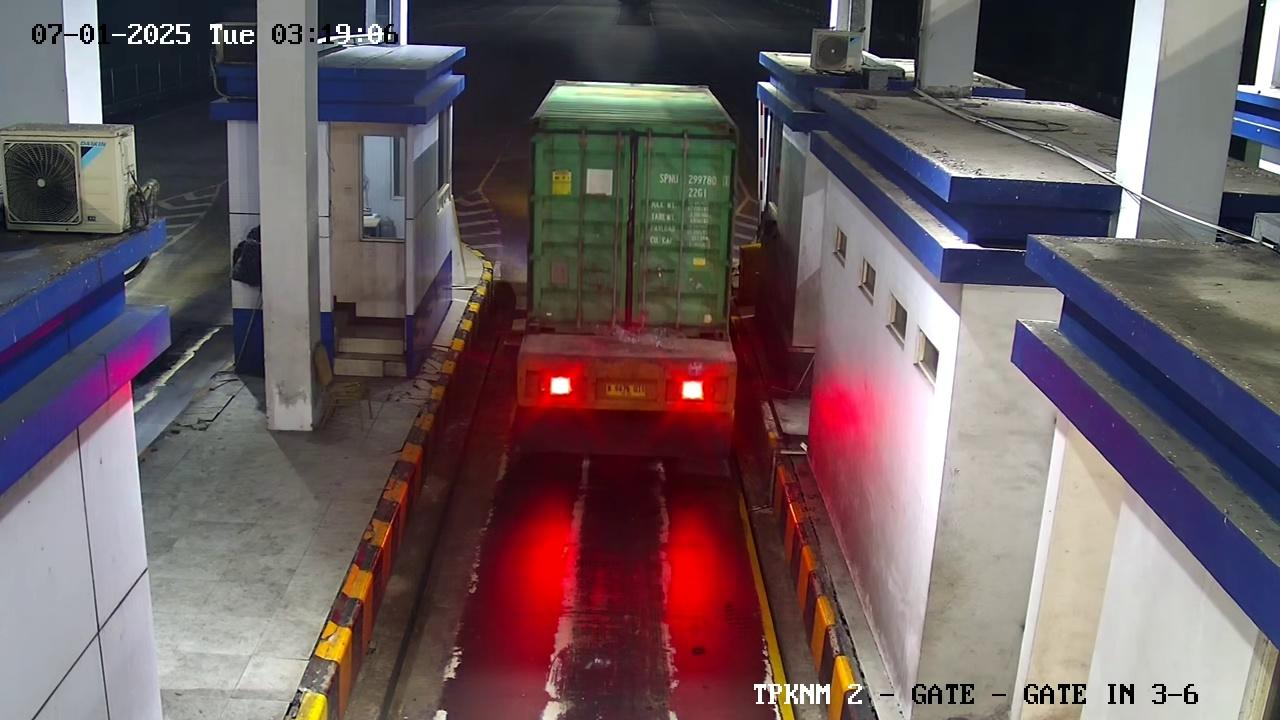Container_ID: (646, 170, 737, 189)
